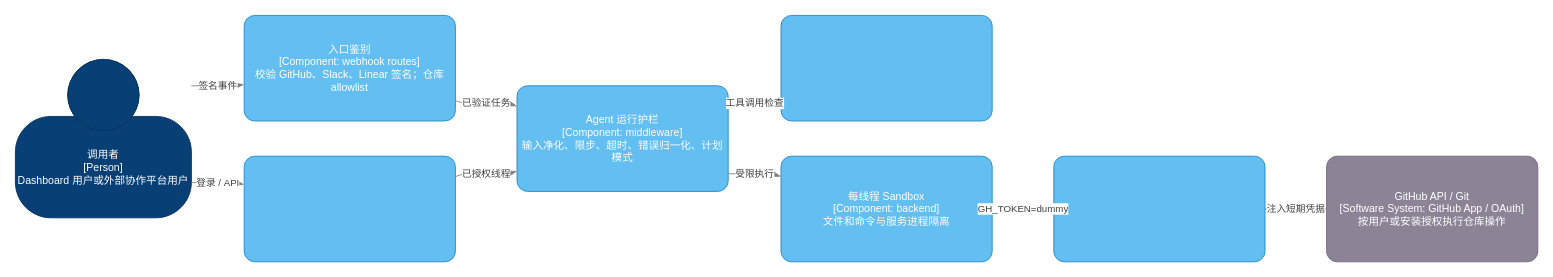
Some shapes in this 1553 by 277 pixel diagram are drawn without their labels. The centre of each missing label's shape, as x and y in pixels:
"GitHub Token Proxy [Component: LangSmith proxy] 令牌不落入 Sandbox；短期令牌到期前刷新" belongs at pixel 1159 208.
"PR 创建守卫 [Component: pr_creation_guard.py] 阻止 Shell 绕过，要求带归属的 open_pull_request" belongs at pixel 886 68.
"身份与会话 [Component: dashboard/oauth.py] GitHub OAuth、组织准入与受保护的线程访问" belongs at pixel 349 208.
